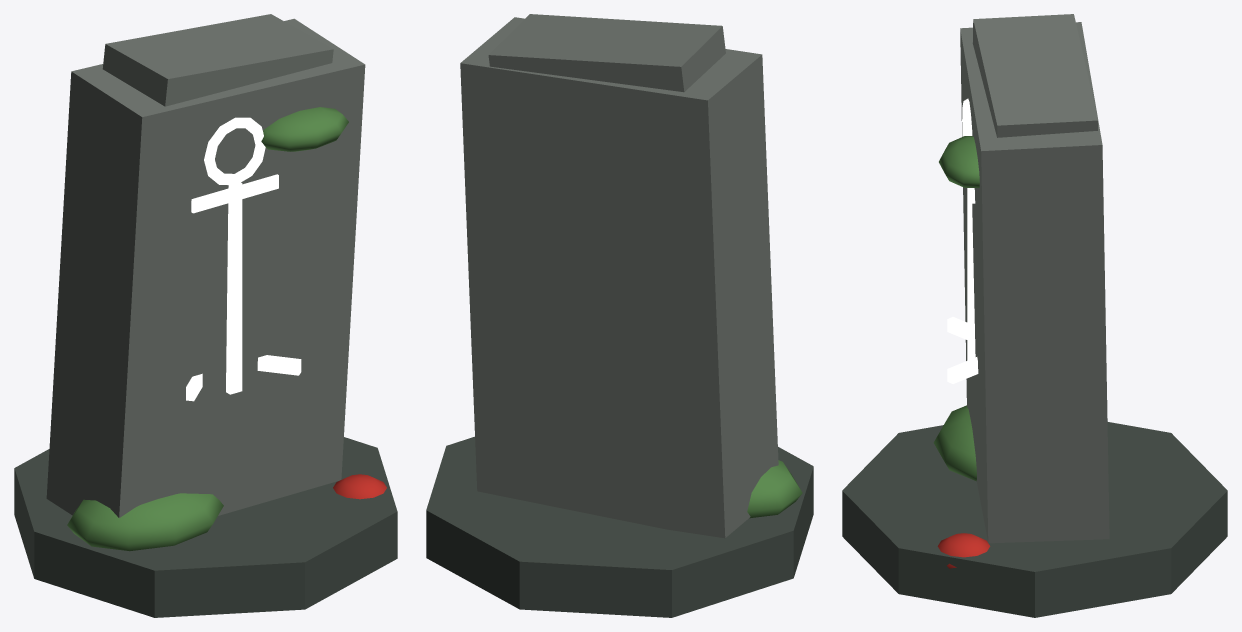
The model's file is Build_Lobby_MapStone_SkyIslands.glb.
The picture shows the model from 3 angles, left to right: view 1: azimuth 30°, elevation 25°; view 2: azimuth 150°, elevation 25°; view 3: azimuth 270°, elevation 25°; orthographic projection. The views are drawn at different scales.
Visible parts, largest first — view 1: Build_Lobby_MapStone_SkyIslands; view 2: Build_Lobby_MapStone_SkyIslands; view 3: Build_Lobby_MapStone_SkyIslands.
Part boxes in pixels (x1=…): Build_Lobby_MapStone_SkyIslands: x1=14, y1=14, x2=397, y2=617; Build_Lobby_MapStone_SkyIslands: x1=426, y1=14, x2=813, y2=617; Build_Lobby_MapStone_SkyIslands: x1=842, y1=14, x2=1227, y2=617.
Size of the model in its own units: 3.8 by 5.27 by 3.8.
